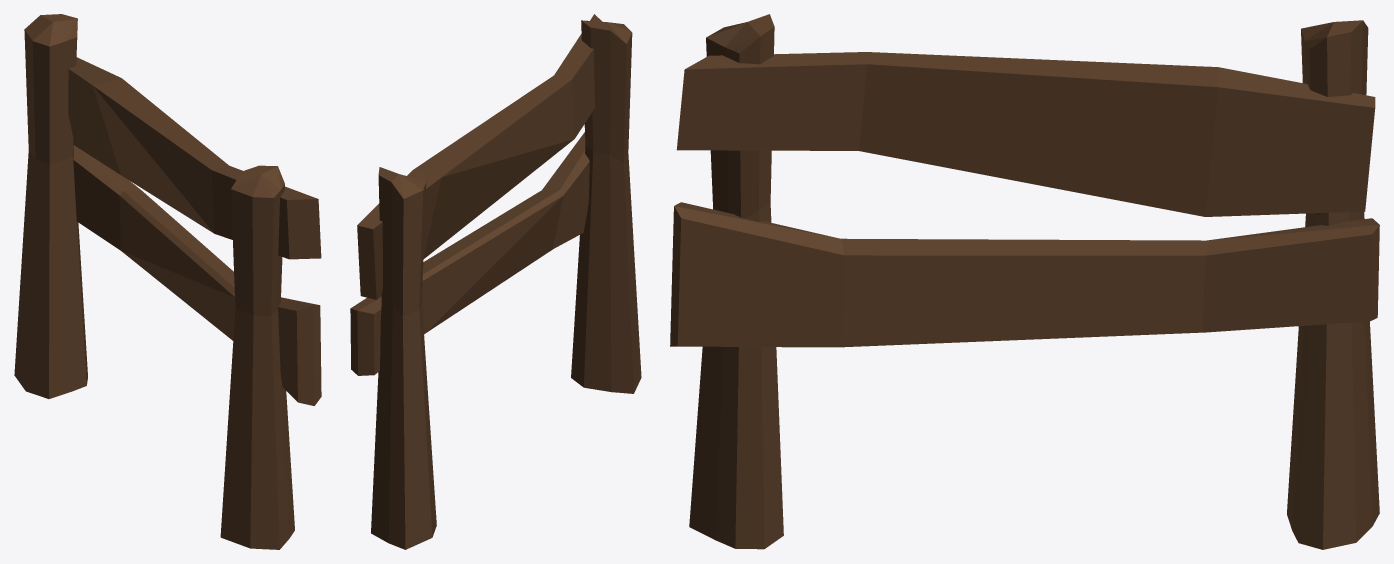
File: railFence2.glb
3 views of the same model, side by side, from view 1: azimuth 30°, elevation 25°; view 2: azimuth 150°, elevation 25°; view 3: azimuth 270°, elevation 25° (orthographic). The views are drawn at different scales.
Visible parts, largest first — view 1: railFence2; view 2: railFence2; view 3: railFence2.
Part boxes in pixels (x1=…): railFence2: x1=14, y1=14, x2=321, y2=549; railFence2: x1=350, y1=14, x2=641, y2=549; railFence2: x1=670, y1=14, x2=1379, y2=549.
Bounding box in the file's own units: 0.2341 × 1.05 × 1.33.
